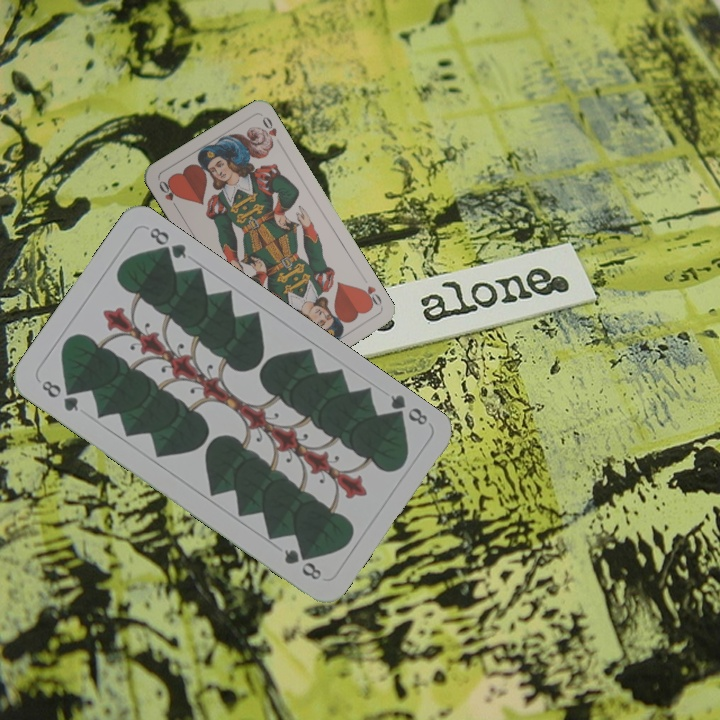G8: (384, 390, 431, 428), (37, 376, 81, 414)
HO: (356, 272, 385, 310), (155, 176, 182, 213)
